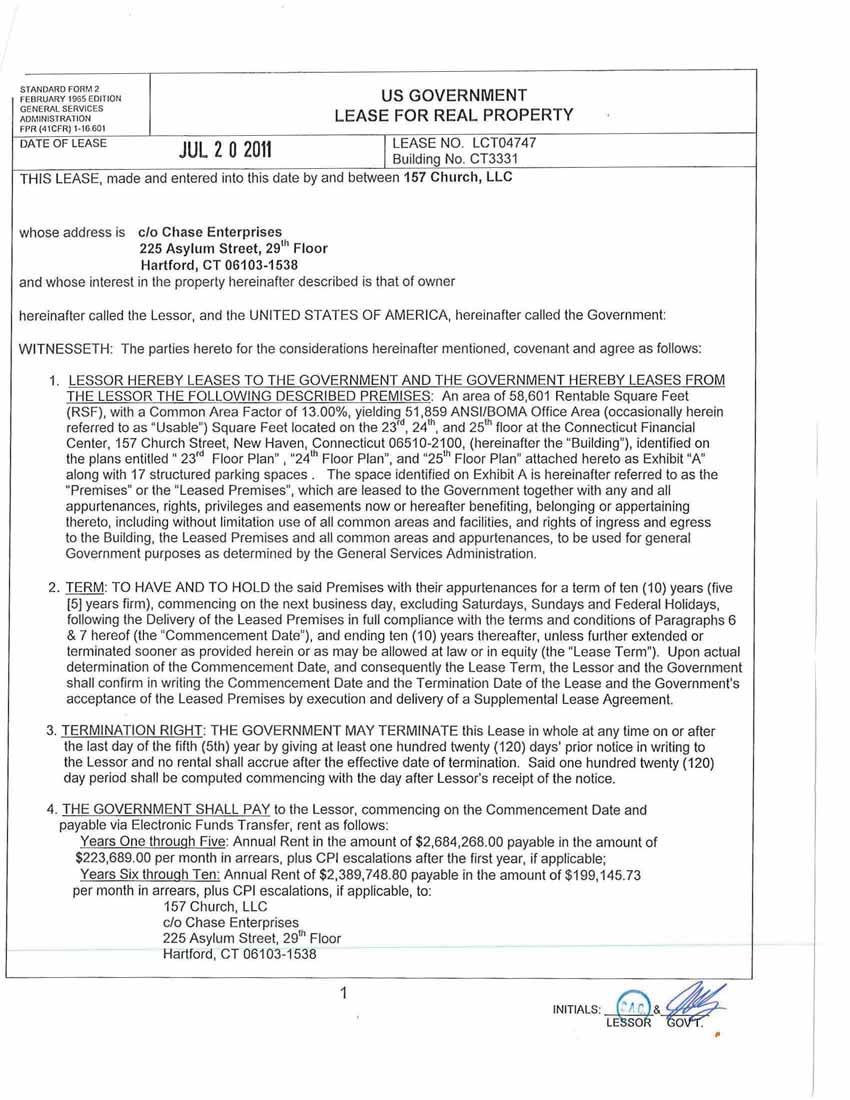handwritten: (664, 976, 731, 1025)
